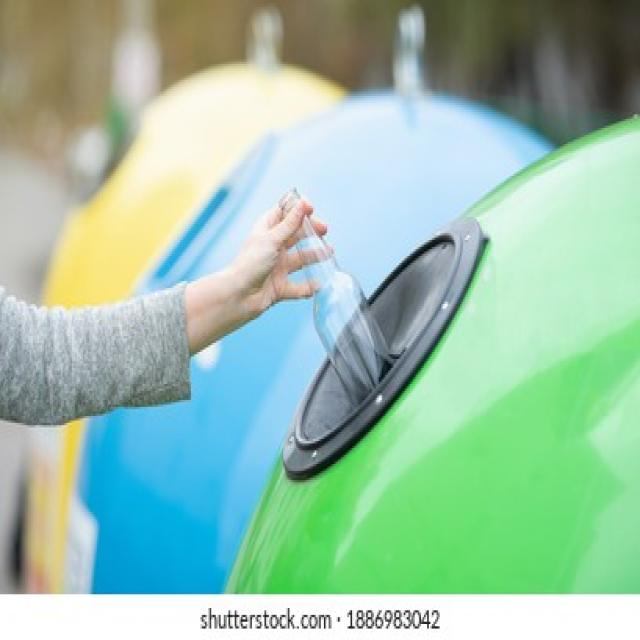glass: (261, 199, 382, 391)
